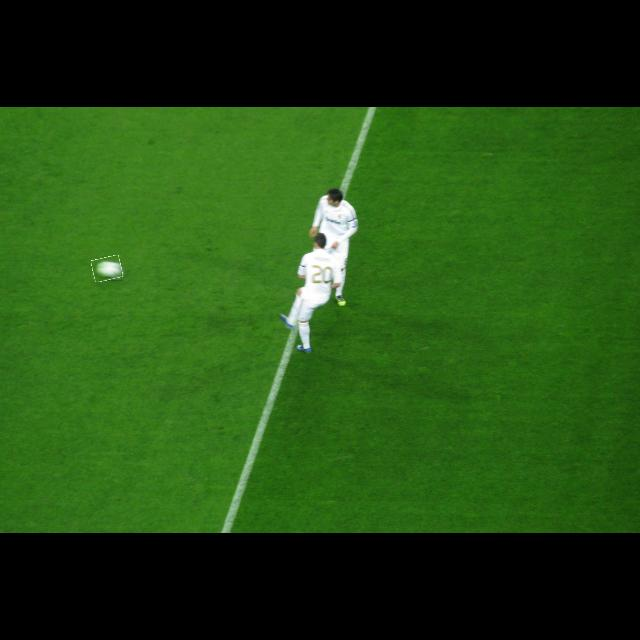Football: (92, 257, 122, 281)
